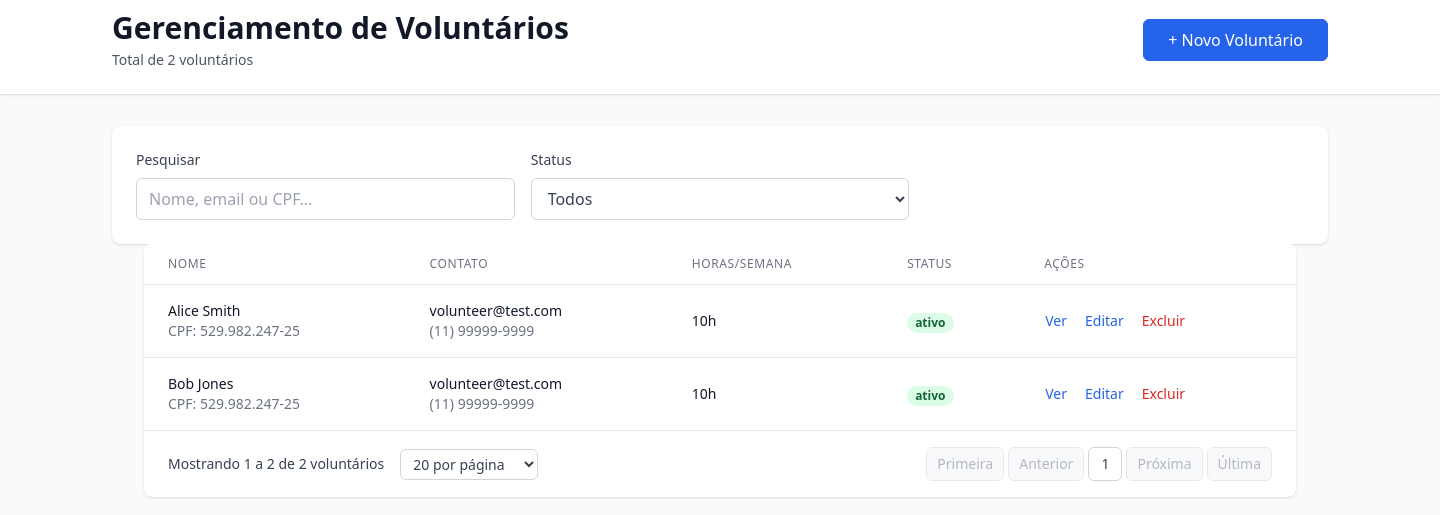
Test: ONGVolunteersPage › Filtering › should filter volunteers by search term (name)
Expected: the text "Alice Smith" is shown, x1=168 y1=301 x2=240 y2=320
Expected: the text "Bob Jones" is shown, x1=168 y1=374 x2=233 y2=393
Type "alice" into the field with placeholder "Nome, email ou CPF..." at point(325, 199), box x1=136 y1=178 x2=515 y2=220
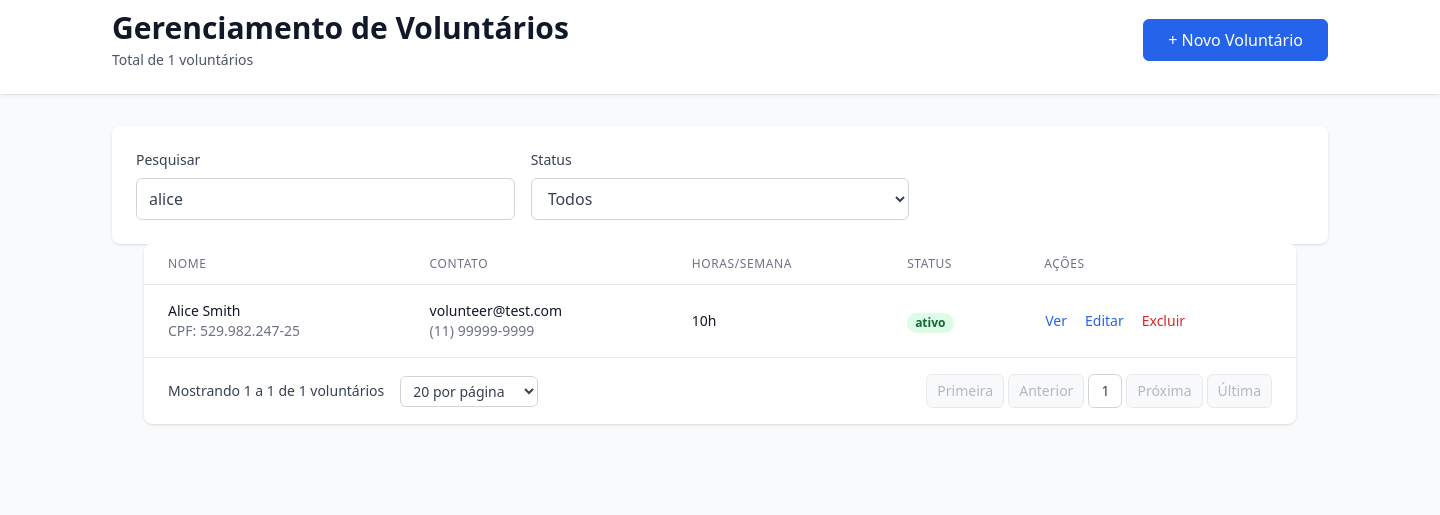
Expected: the text "Alice Smith" is shown, x1=168 y1=301 x2=240 y2=320
Result: the text "Bob Jones" is gone
